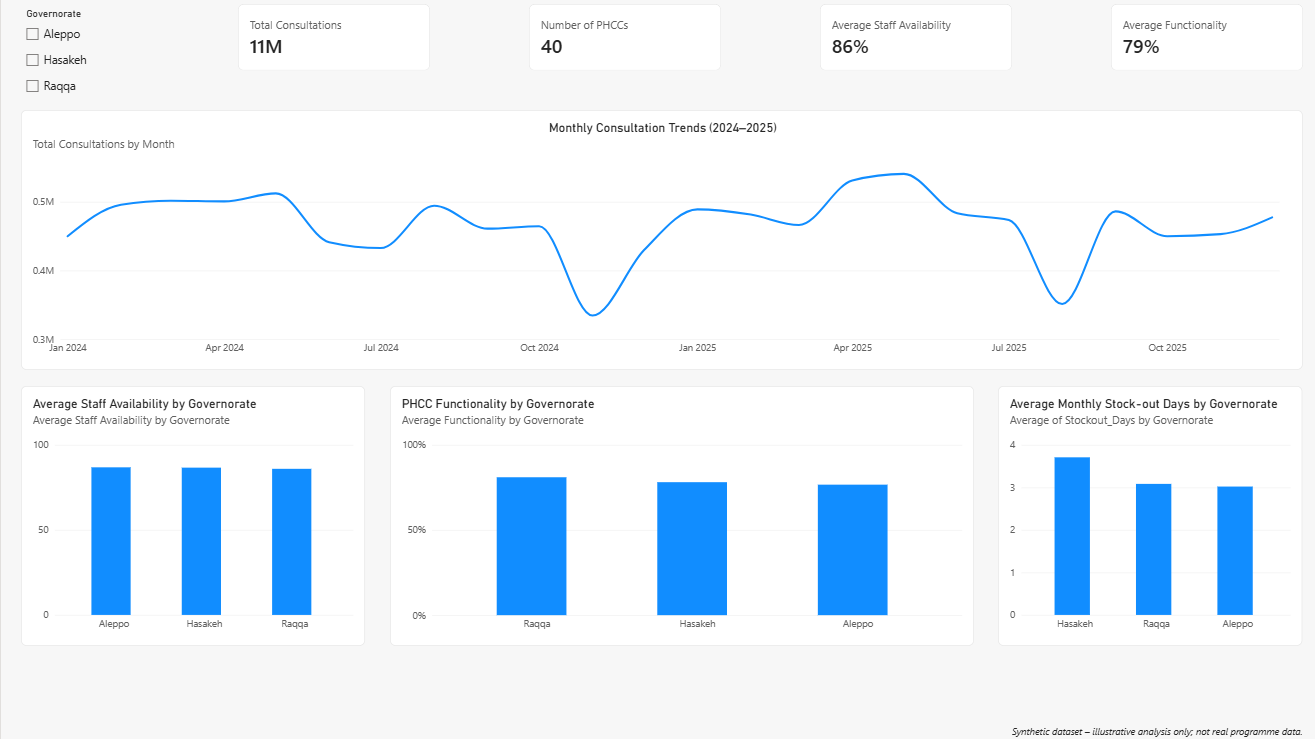

Layout of this report page (visuals, bound fields, positions):
{"tool":"powerbi","page":{"name":"Overall PHCC Performance","canvas":[1920,1080],"ordinal":0},"visuals":[{"type":"cardVisual","fields":{"Data":["PHCC_Integrated.Number of PHCCs"]},"box":[770.3,5.8,280.1,97.8],"z":0},{"type":"cardVisual","fields":{"Data":["PHCC_Integrated.Average Staff Availability"]},"box":[1194.9,5.8,280.1,97.8],"z":1000},{"type":"cardVisual","fields":{"Data":["PHCC_Integrated.Average Functionality"]},"box":[1619.5,5.8,280.1,97.8],"z":2000},{"type":"cardVisual","fields":{"Data":["PHCC_Integrated.Total Consultations"]},"box":[345.8,5.8,280.1,97.8],"z":3000},{"type":"lineChart","title":"Monthly Consultation Trends (2024–2025)","fields":{"Category":["PHCC_Integrated.Month"],"Y":["PHCC_Integrated.Total Consultations"]},"box":[29.2,160.5,1870.4,379.3],"z":4000},{"type":"slicer","fields":{"Values":["PHCC_Integrated.Governorate"]},"box":[29.2,11.7,116.7,148.8],"z":5000},{"type":"clusteredColumnChart","title":"PHCC Functionality by Governorate","fields":{"Category":["PHCC_Integrated.Governorate"],"Y":["PHCC_Integrated.Average Functionality"]},"box":[567.5,563.2,852,379.3],"z":6000},{"type":"clusteredColumnChart","title":"Average Staff Availability by Governorate","fields":{"Category":["PHCC_Integrated.Governorate"],"Y":["PHCC_Integrated.Average Staff Availability"]},"box":[29,563,502,379],"z":7000},{"type":"clusteredColumnChart","title":"Average Monthly Stock-out Days by Governorate","fields":{"Category":["PHCC_Integrated.Governorate"],"Y":["Avg(PHCC_Integrated.Stockout_Days)"]},"box":[1455,563,444,379],"z":8000},{"type":"textbox","box":[1475,1057.8,445,21.9],"z":8001}]}

Visuals, with their boxes in screenshot pixels (x1, y1, x2, y2), scaled from the page's 1920x1080 canvas onto the 1315x739 screenshot:
cardVisual - PHCC_Integrated.Number of PHCCs: 528, 4, 719, 71
cardVisual - PHCC_Integrated.Average Staff Availability: 818, 4, 1010, 71
cardVisual - PHCC_Integrated.Average Functionality: 1109, 4, 1301, 71
cardVisual - PHCC_Integrated.Total Consultations: 237, 4, 429, 71
"Monthly Consultation Trends (2024–2025)" lineChart: 20, 110, 1301, 369
slicer - PHCC_Integrated.Governorate: 20, 8, 100, 110
"PHCC Functionality by Governorate" clusteredColumnChart: 389, 385, 972, 645
"Average Staff Availability by Governorate" clusteredColumnChart: 20, 385, 364, 645
"Average Monthly Stock-out Days by Governorate" clusteredColumnChart: 997, 385, 1301, 645
textbox: 1010, 724, 1314, 738
